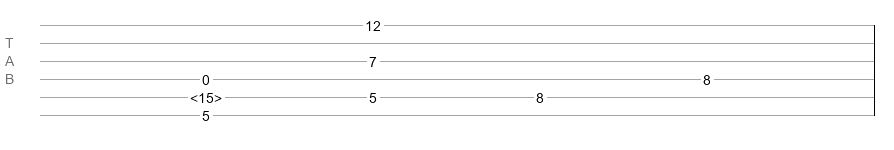0: (202, 72, 210, 82)
12: (365, 18, 381, 28)
5: (202, 108, 210, 118), (369, 90, 377, 100)
7: (369, 54, 377, 64)
8: (536, 90, 544, 100), (703, 72, 711, 82)
harmonic: (190, 90, 222, 100)
